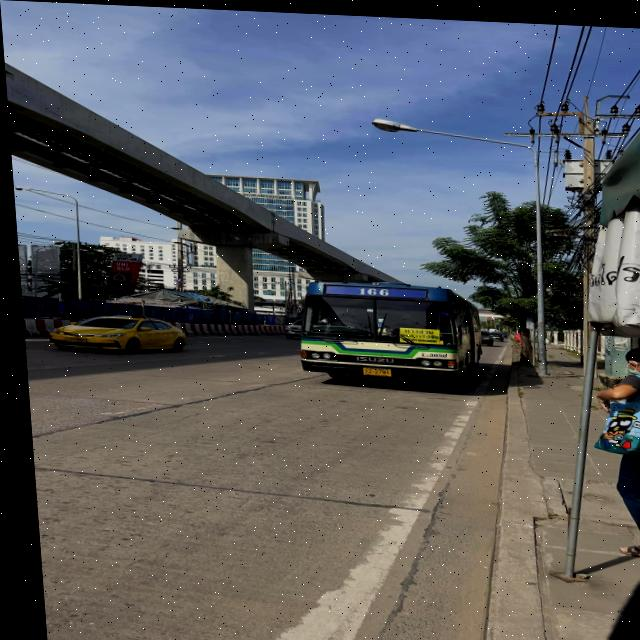BMTA-bus: (286, 273, 482, 381)
Bus-Line-Number: (352, 283, 388, 294)
Destination-Sign-Normal-Expressway: (394, 324, 437, 341)
